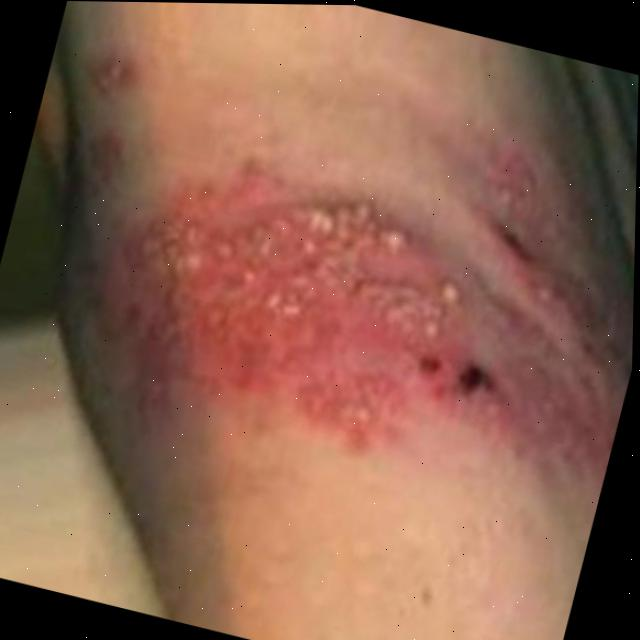Shingles: (6, 46, 639, 501)
